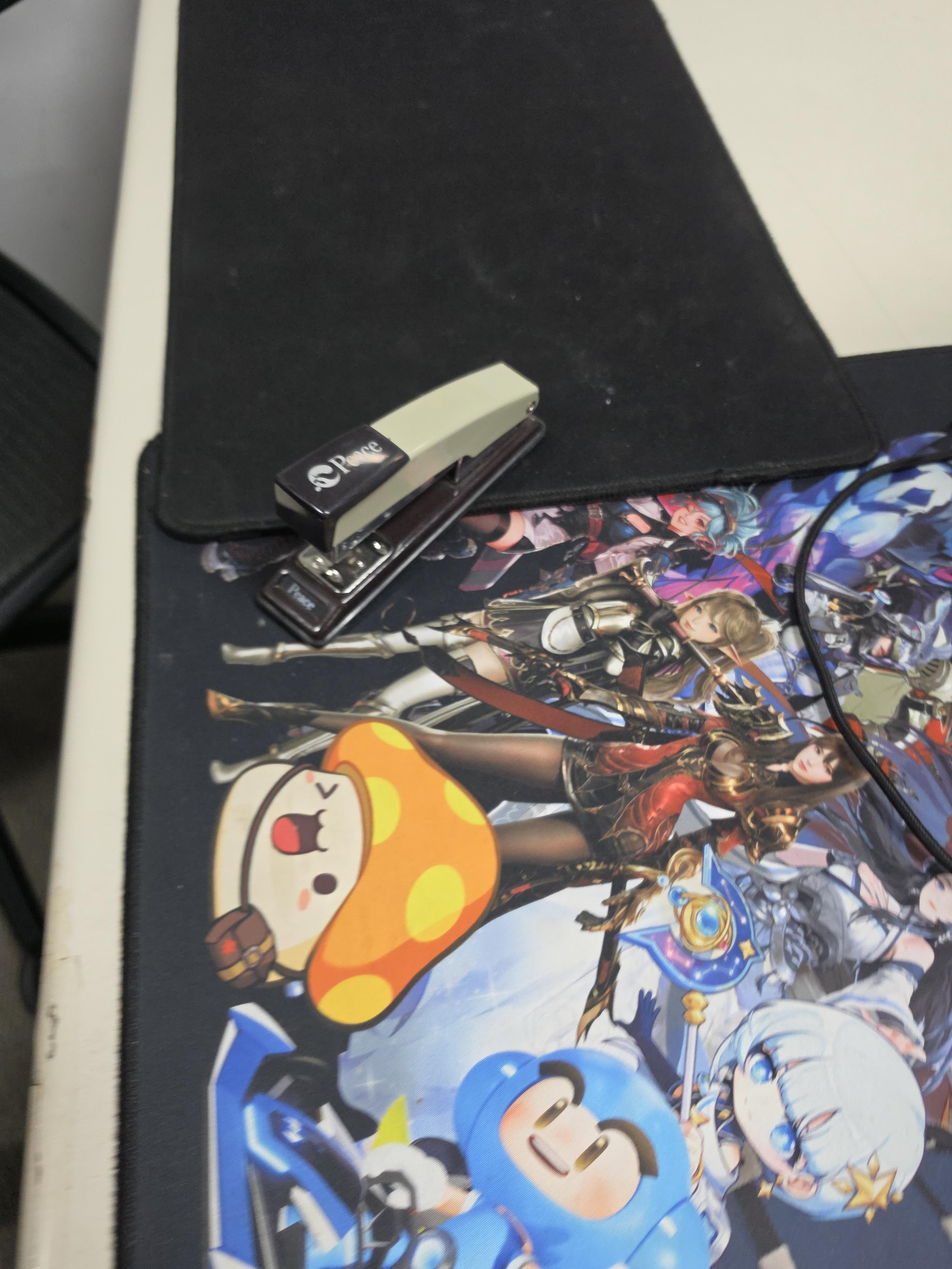stapler: (256, 359, 549, 647)
